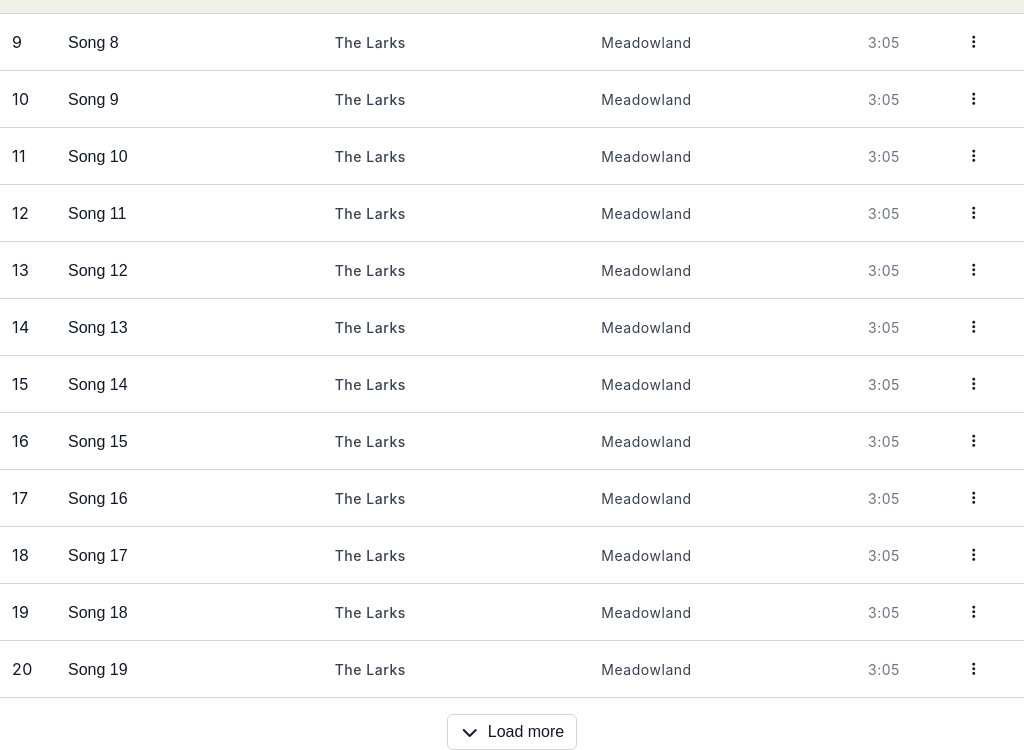
it: ArtistView › loads the next page of tracks
(page scrolled)
Click the button "Load more": (512, 732) [447,714,577,749]
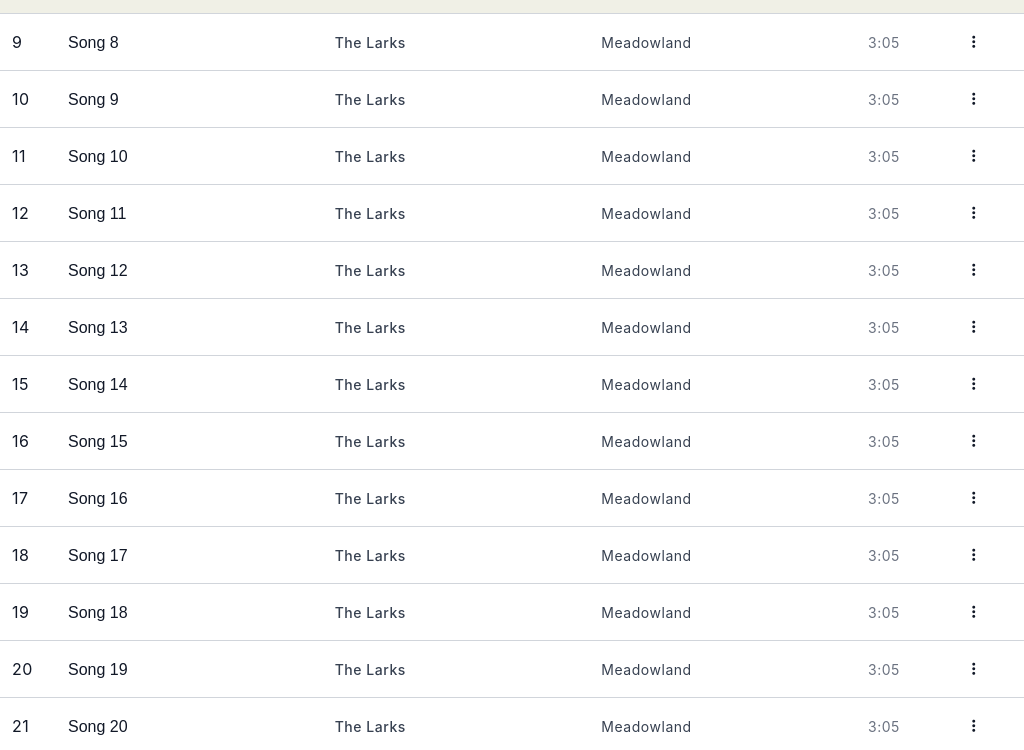
Expected: the text "Song 19" is shown, [68,661,128,678]
Expected: the text "Song 20" is shown, [68,718,128,735]
